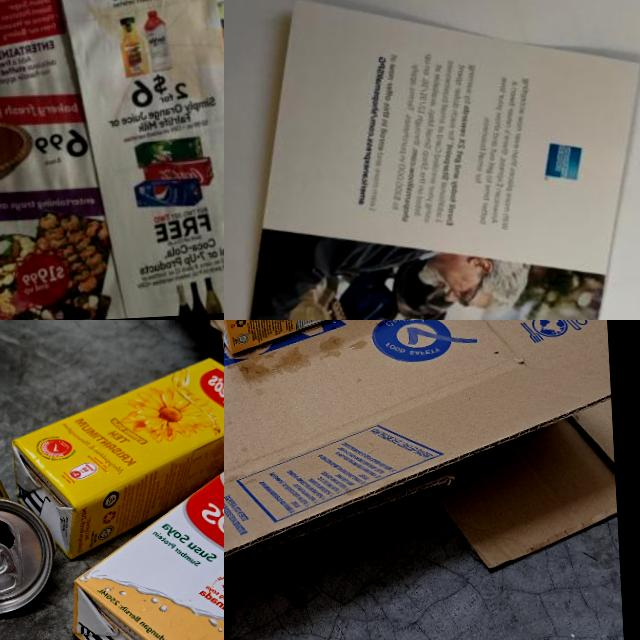aba de lata: (0, 541, 18, 596)
caixinha: (6, 355, 224, 564), (61, 438, 224, 640), (224, 320, 390, 355)
lata: (0, 394, 57, 623)
papel: (224, 0, 640, 320), (0, 0, 224, 320)
papelão: (224, 320, 621, 603), (132, 320, 224, 407)
